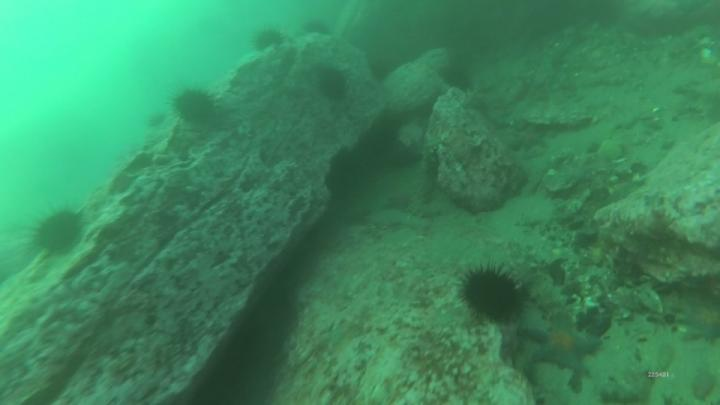echinus: (466, 271, 522, 320), (33, 212, 84, 252), (172, 91, 217, 121), (318, 67, 347, 101), (440, 65, 472, 92), (255, 28, 285, 48)
holothurian: (372, 208, 428, 230)
starfish: (530, 319, 600, 371)
